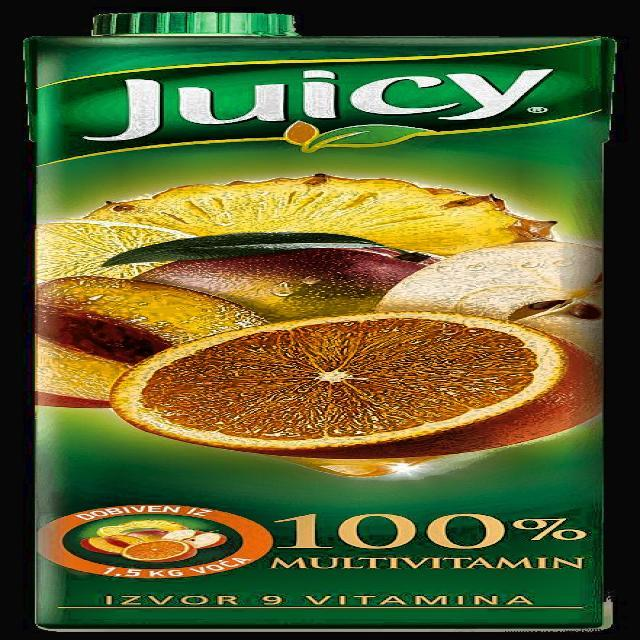cardboard: (27, 11, 614, 632)
